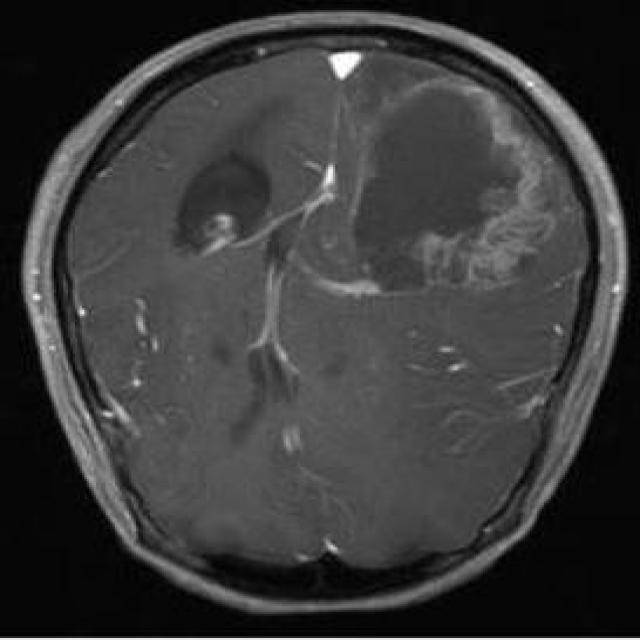Tumor-Cell: (359, 61, 564, 326)
